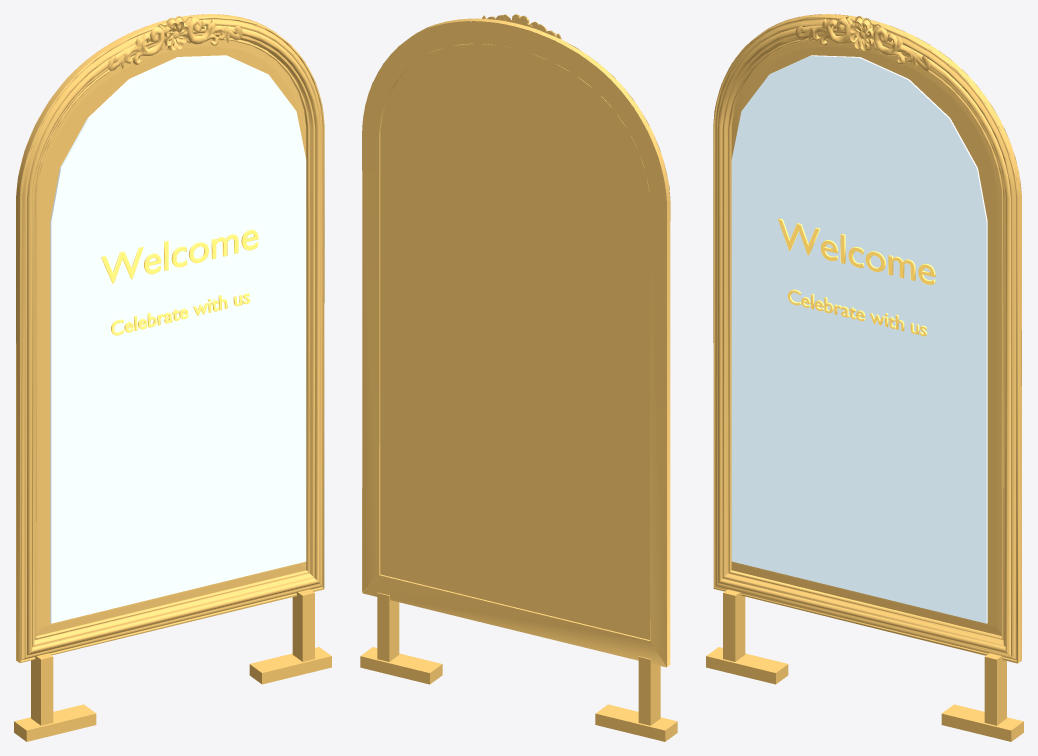
The model's file is sign-mirror-welcome.glb.
3 views of the same model, side by side, from view 1: azimuth 30°, elevation 25°; view 2: azimuth 150°, elevation 25°; view 3: azimuth 330°, elevation 25° (orthographic).
Visible parts, largest first — view 1: BS_MirrorInset, CC0_Mirror_01, BS_WelcomeText, BS_FootL, BS_FootR, BS_BracketL, BS_BracketR, BS_SubtitleText; view 2: CC0_Mirror_01, BS_FootR, BS_FootL, BS_BracketL, BS_BracketR; view 3: BS_MirrorInset, CC0_Mirror_01, BS_WelcomeText, BS_FootR, BS_FootL, BS_BracketR, BS_BracketL, BS_SubtitleText.
Part boxes in pixels (x1,y1,x2,y2): BS_MirrorInset: (50,55,306,623); CC0_Mirror_01: (16,14,324,662); BS_WelcomeText: (101,229,258,283); BS_FootL: (14,704,96,741); BS_FootR: (249,647,331,684); BS_BracketL: (31,653,53,725); BS_BracketR: (292,589,314,661); BS_SubtitleText: (111,293,250,335); CC0_Mirror_01: (362,14,670,667); BS_FootR: (360,647,442,684); BS_FootL: (595,704,677,741); BS_BracketL: (638,656,660,725); BS_BracketR: (377,592,399,661); BS_MirrorInset: (731,55,987,623); CC0_Mirror_01: (713,14,1021,663); BS_WelcomeText: (778,218,935,284); BS_FootR: (941,704,1023,741); BS_FootL: (706,647,788,684); BS_BracketR: (984,653,1006,725); BS_BracketL: (723,589,745,661); BS_SubtitleText: (787,289,927,336).
Bounding box in the file's own units: 0.7 × 1.5 × 0.0573.
